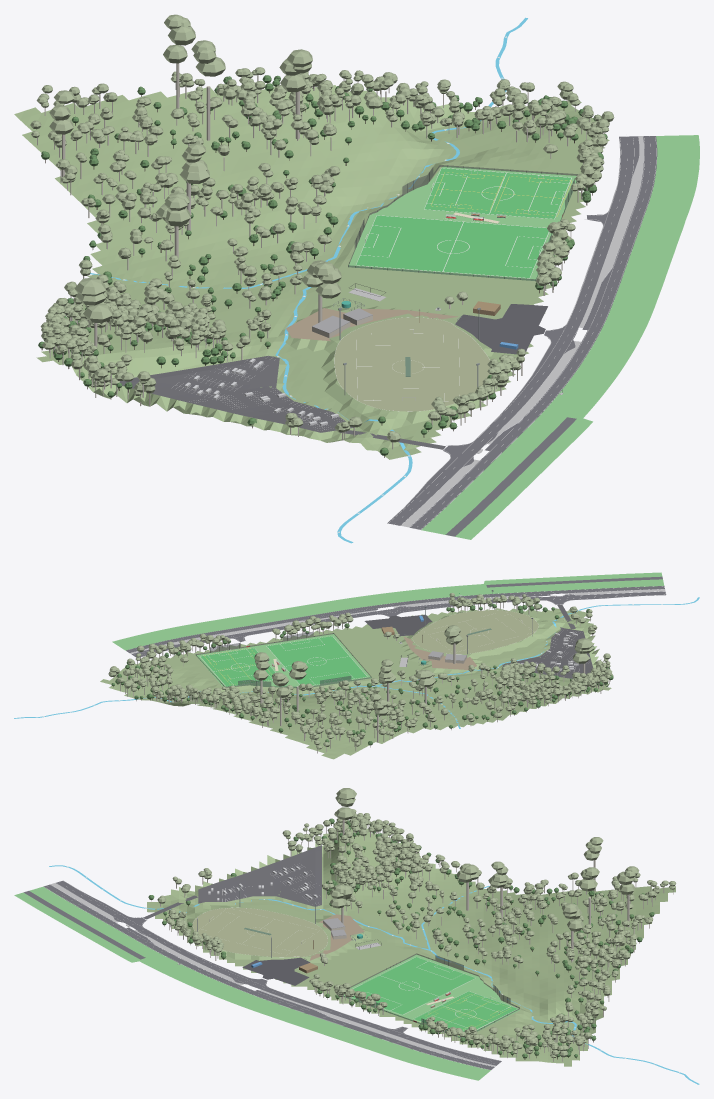
File: KHFR_stage2_winter.glb
The picture shows the model from 3 angles, top to bottom: view 1: azimuth 30°, elevation 25°; view 2: azimuth 150°, elevation 25°; view 3: azimuth 270°, elevation 25°; orthographic projection. The views are drawn at different scales.
Parts seen in each view (by area): view 1: Reserve terrain, Bushland forest (euc_can), Road reserve (far verge), Bush planting zones (euc_can), Existing Ground 1 (worn turf), Pitch 3, Swansea Rd NE-bound (surveyed both edges), Giant eucalypts (canopies), New car park (~220), Pitch 4, Swansea Rd SW-bound (2 lanes, smooth), Tennis precinct bush retained (euc_can) (+16 smaller); view 2: Reserve terrain, Bushland forest (euc_can), Road reserve (far verge), Bush planting zones (euc_can), Existing Ground 1 (worn turf), Pitch 3, Giant eucalypts (canopies), Swansea Rd SW-bound (2 lanes, smooth), Tennis precinct bush retained (euc_can), Swansea Rd NE-bound (surveyed both edges), Pitch 4, New car park (~220) (+13 smaller); view 3: Reserve terrain, Bushland forest (euc_can), Road reserve (far verge), Bush planting zones (euc_can), Existing Ground 1 (worn turf), New car park (~220), Pitch 3, Swansea Rd NE-bound (surveyed both edges), Giant eucalypts (canopies), Tennis precinct bush retained (euc_can), Swansea Rd SW-bound (2 lanes, smooth), Pitch 4 (+13 smaller).
Boxes of the visible parts, left/top/right/bottom form: Reserve terrain: left=14, top=85, right=609, bottom=459; Bushland forest (euc_can): left=30, top=71, right=400, bottom=442; Road reserve (far verge): left=421, top=135, right=699, bottom=539; Bush planting zones (euc_can): left=216, top=67, right=614, bottom=416; Existing Ground 1 (worn turf): left=334, top=317, right=490, bottom=411; Pitch 3: left=356, top=215, right=548, bottom=278; Swansea Rd NE-bound (surveyed both edges): left=387, top=136, right=639, bottom=525; Giant eucalypts (canopies): left=49, top=14, right=312, bottom=323; New car park (~220): left=120, top=355, right=353, bottom=432; Pitch 4: left=424, top=168, right=570, bottom=218; Swansea Rd SW-bound (2 lanes, smooth): left=409, top=136, right=657, bottom=529; Tennis precinct bush retained (euc_can): left=40, top=296, right=233, bottom=387; Reserve terrain: left=100, top=608, right=611, bottom=759; Bushland forest (euc_can): left=198, top=606, right=611, bottom=749; Road reserve (far verge): left=112, top=572, right=664, bottom=650; Bush planting zones (euc_can): left=108, top=593, right=540, bottom=716; Existing Ground 1 (worn turf): left=412, top=610, right=538, bottom=653; Pitch 3: left=267, top=636, right=366, bottom=685; Giant eucalypts (canopies): left=253, top=638, right=593, bottom=715; Swansea Rd SW-bound (2 lanes, smooth): left=126, top=586, right=664, bottom=652; Tennis precinct bush retained (euc_can): left=495, top=661, right=613, bottom=703; Swansea Rd NE-bound (surveyed both edges): left=131, top=591, right=666, bottom=657; Pitch 4: left=200, top=648, right=275, bottom=686; New car park (~220): left=502, top=627, right=592, bottom=678; Reserve terrain: left=147, top=824, right=675, bottom=1066; Bushland forest (euc_can): left=157, top=817, right=676, bottom=980; Road reserve (far verge): left=14, top=886, right=490, bottom=1080; Bush planting zones (euc_can): left=166, top=909, right=637, bottom=1057; Existing Ground 1 (worn turf): left=192, top=907, right=327, bottom=957; New car park (~220): left=198, top=845, right=321, bottom=906; Pitch 3: left=352, top=957, right=475, bottom=1014; Swansea Rd NE-bound (surveyed both edges): left=56, top=880, right=501, bottom=1065; Giant eucalypts (canopies): left=335, top=788, right=639, bottom=931; Tennis precinct bush retained (euc_can): left=295, top=809, right=416, bottom=888; Swansea Rd SW-bound (2 lanes, smooth): left=43, top=884, right=494, bottom=1069; Pitch 4: left=414, top=991, right=517, bottom=1031.
Bounding box in the file's own units: 495 × 86.35 × 599.
